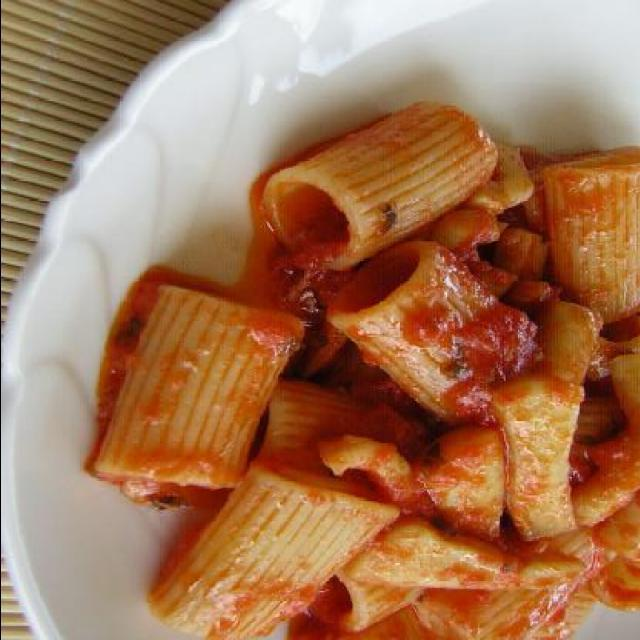Pasta al ragu: (93, 107, 638, 636)
